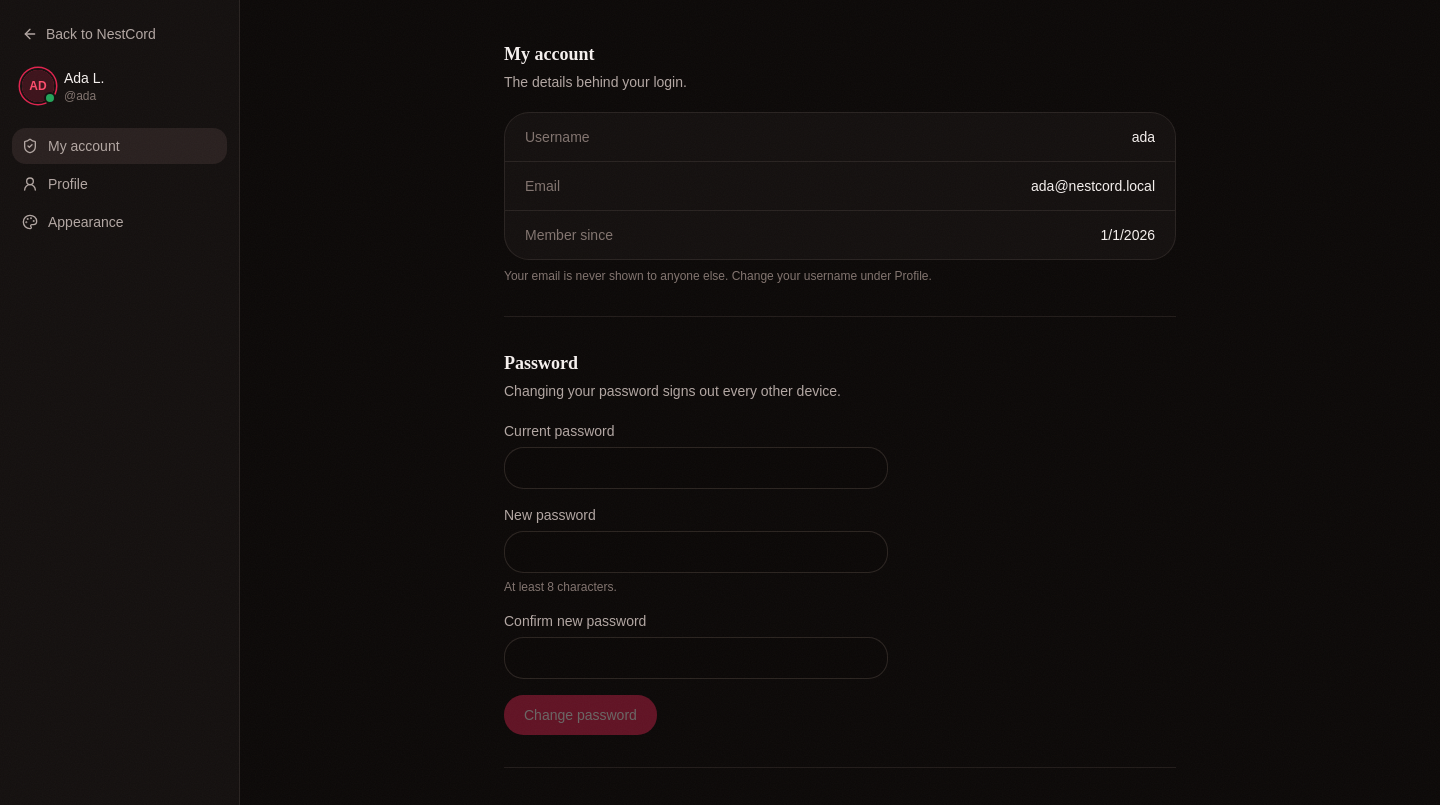
Test: settings › refuses to submit a password change when the confirmation does not match
Type "password123" into the password field labelled "Current password".
click(696, 468); type("password123")  # box x1=504 y1=447 x2=888 y2=489
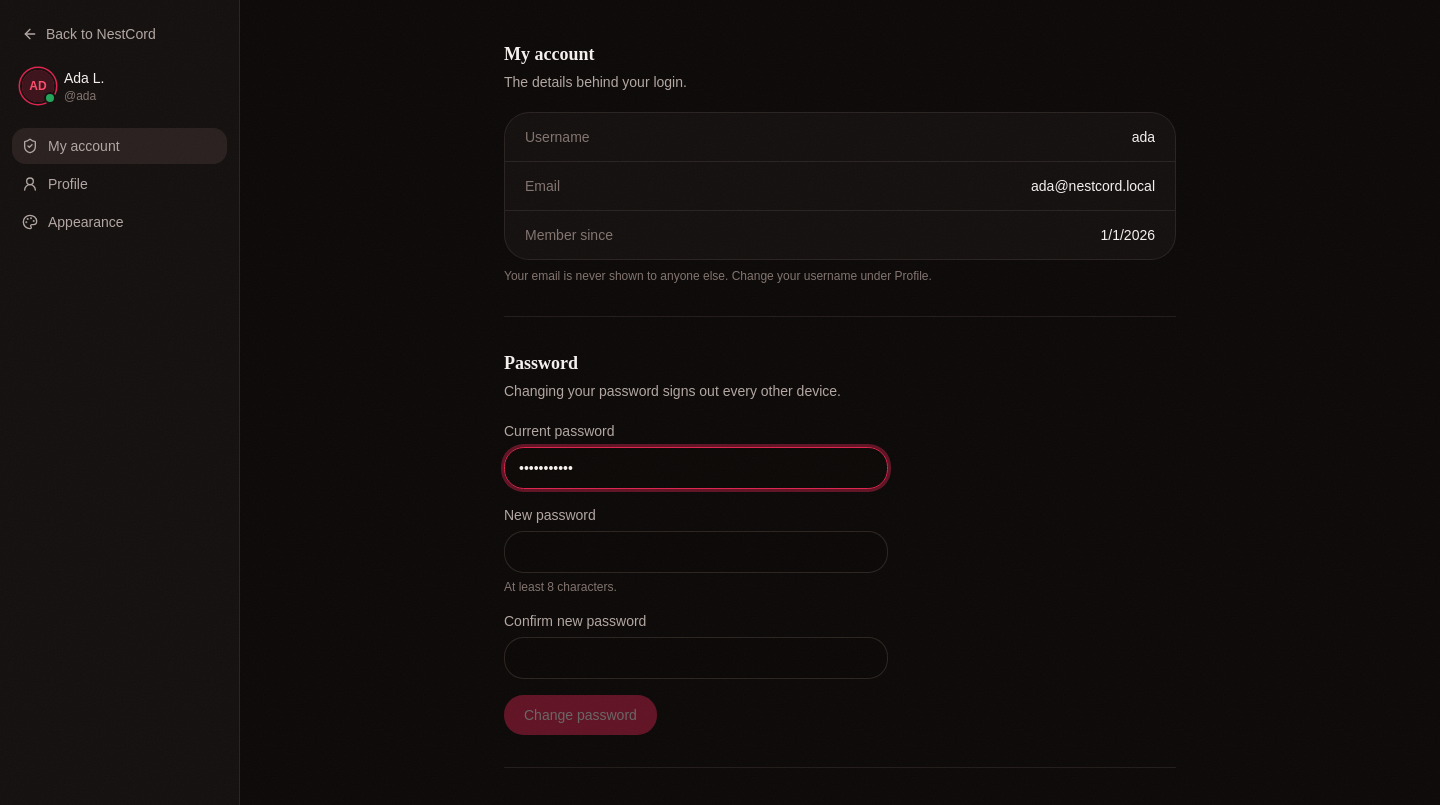
Type "a-brand-new-one" into the password field labelled "New password".
click(696, 552); type("a-brand-new-one")  # box x1=504 y1=531 x2=888 y2=573
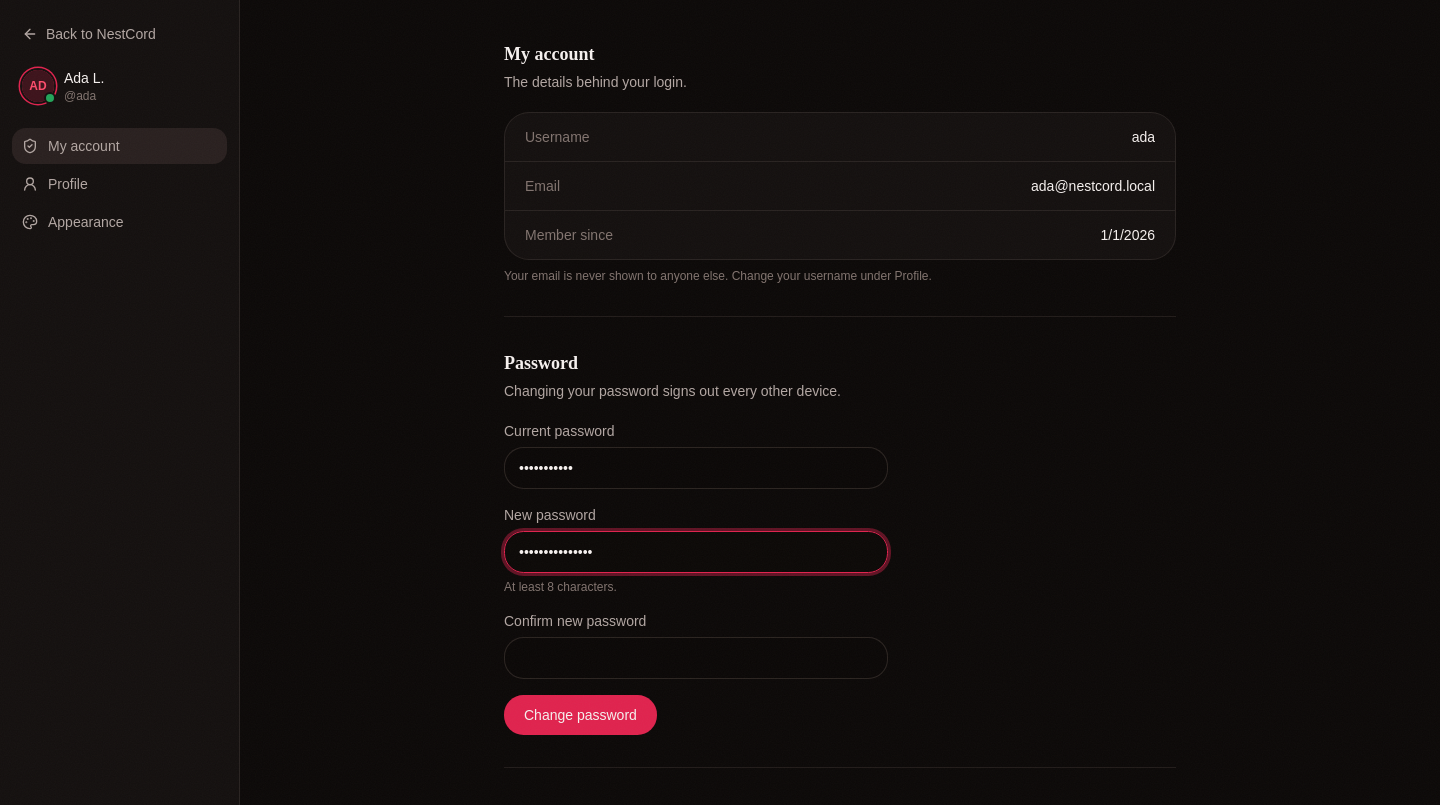
Type "a-different-one" into the password field labelled "Confirm new password".
click(696, 658); type("a-different-one")  # box x1=504 y1=637 x2=888 y2=679
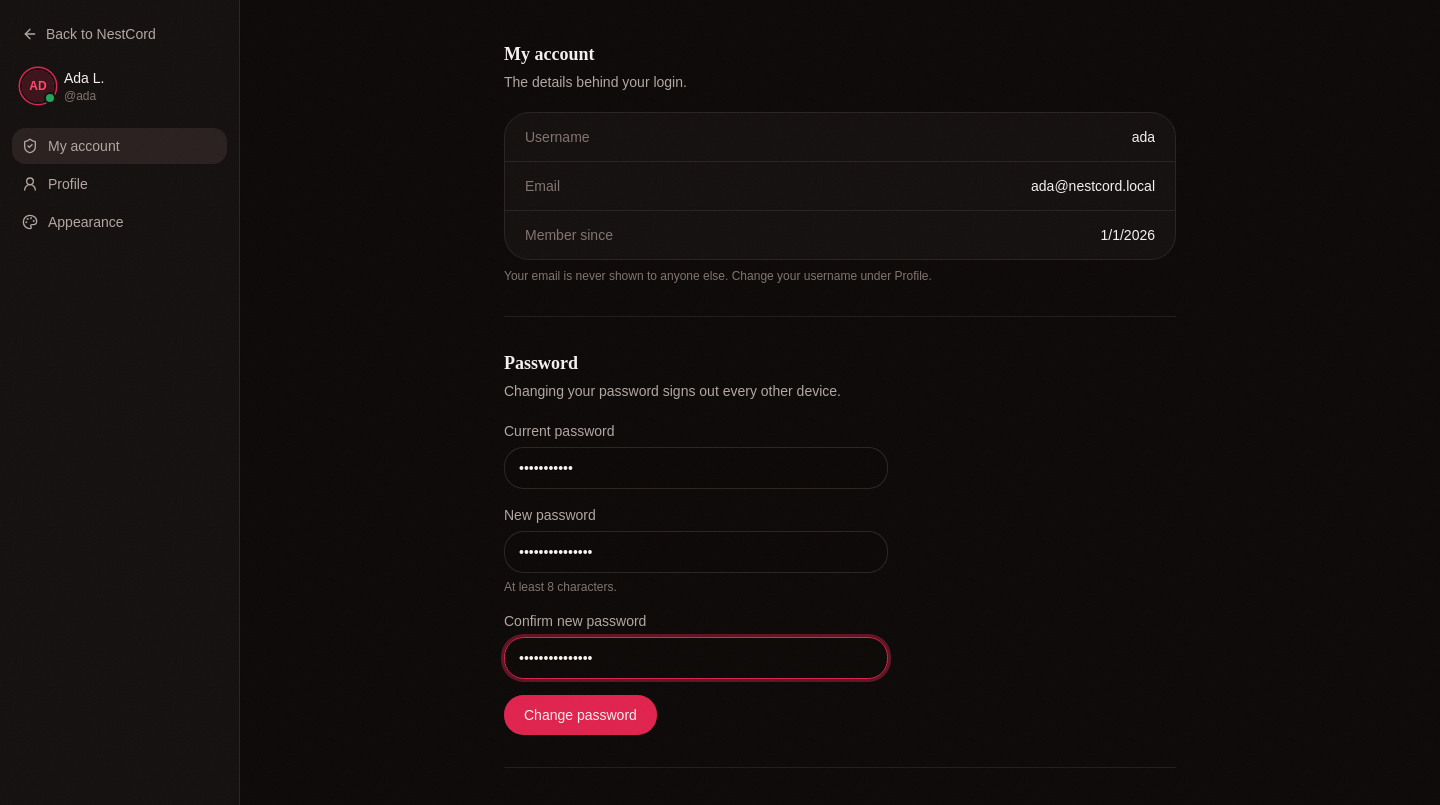
Click the button "Change password".
click(580, 715)  # box x1=504 y1=695 x2=657 y2=735
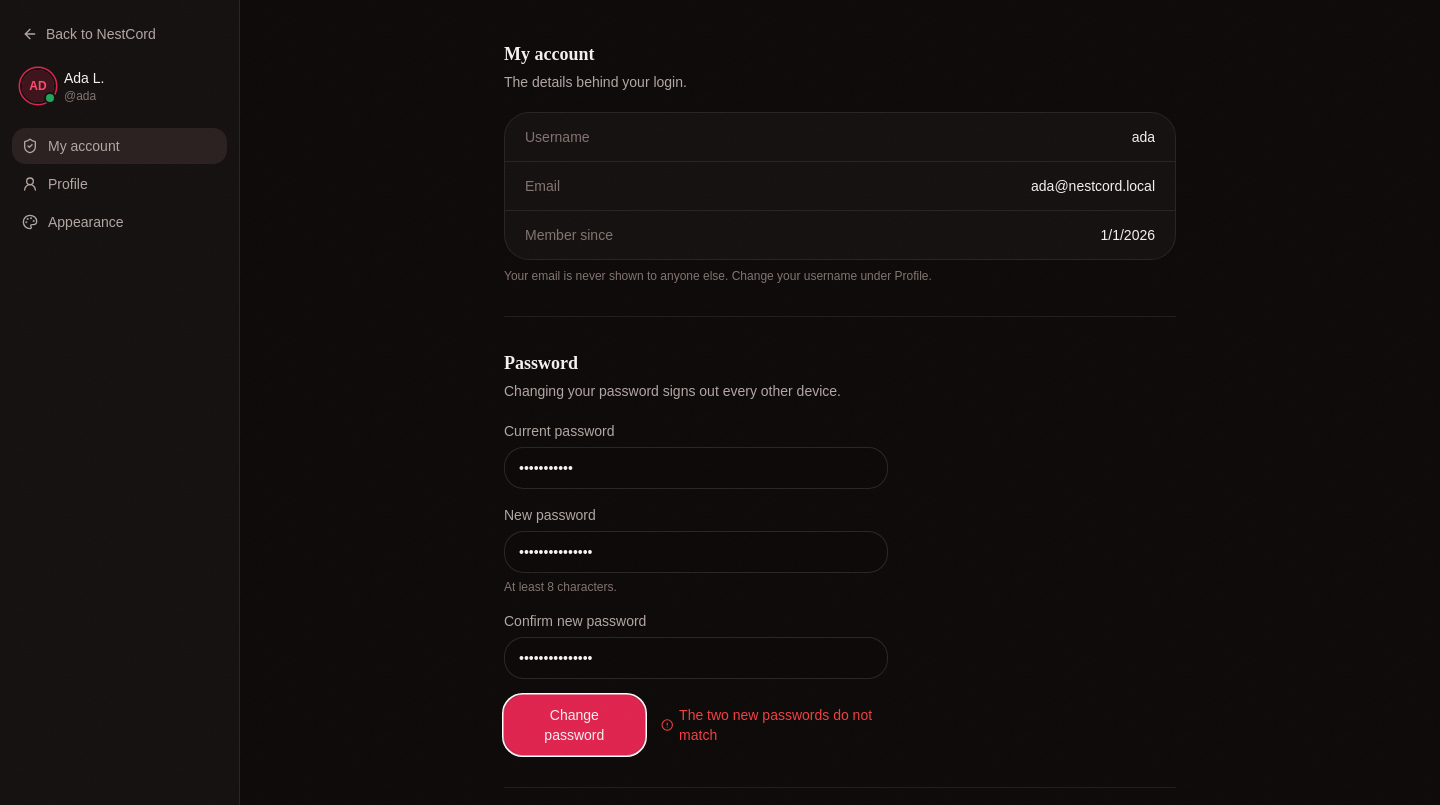
Result: the message shows "do not match" at x1=679 y1=707 x2=872 y2=743
